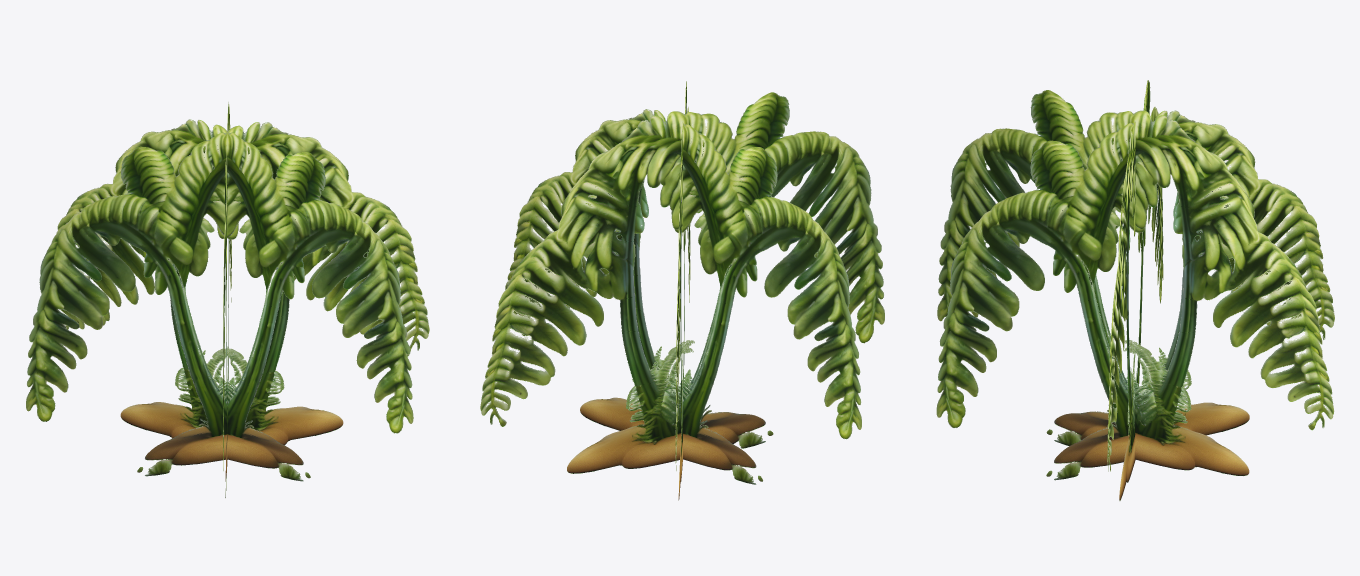
The model's file is fern.glb.
The picture shows the model from 3 angles, left to right: view 1: azimuth 30°, elevation 25°; view 2: azimuth 150°, elevation 25°; view 3: azimuth 270°, elevation 25°; orthographic projection. The views are drawn at different scales.
Parts seen in each view (by area): view 1: Leaves; view 2: Leaves; view 3: Leaves.
Part boxes in pixels (x1,y1,x2,y2): Leaves: (26, 102, 429, 497); Leaves: (480, 81, 884, 500); Leaves: (936, 80, 1334, 500).
Bounding box in the file's own units: 0.9788 × 0.8258 × 0.8706.
1 material, 1 textured.
